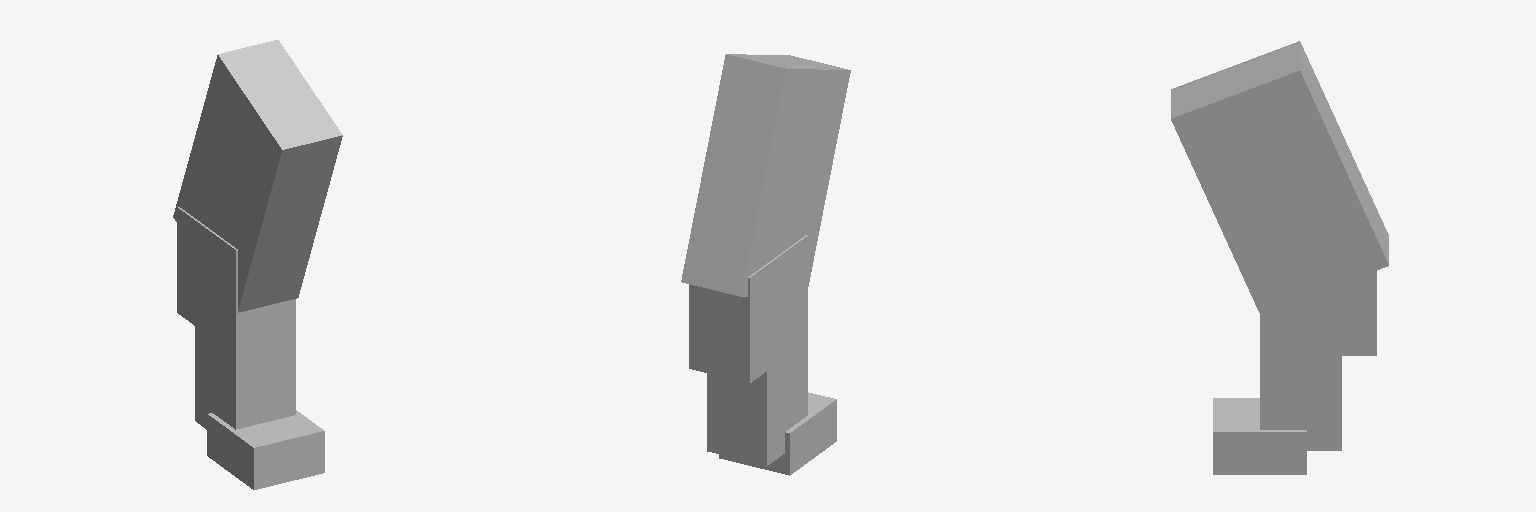
The model's file is tiger_front_left_leg.obj.
3 views of the same model, side by side, from view 1: azimuth 30°, elevation 25°; view 2: azimuth 150°, elevation 25°; view 3: azimuth 270°, elevation 25° (orthographic).
Visible parts, largest first — view 1: Element #25, Element #44, Element #26, Element #50; view 2: Element #25, Element #26, Element #44, Element #50; view 3: Element #25, Element #44, Element #50, Element #26.
Part boxes in pixels (x1,y1,x2,y2): Element #25: (173,40,342,312); Element #44: (195,284,295,429); Element #26: (177,207,295,355); Element #50: (207,410,324,489); Element #25: (681,54,850,296); Element #26: (689,235,807,383); Element #44: (707,315,807,465); Element #50: (719,392,836,475); Element #25: (1171,41,1388,313); Element #44: (1260,313,1341,450); Element #50: (1213,398,1306,474); Element #26: (1260,271,1376,355).
Bounding box in the file's own units: 3.5 × 19.03 × 9.37.